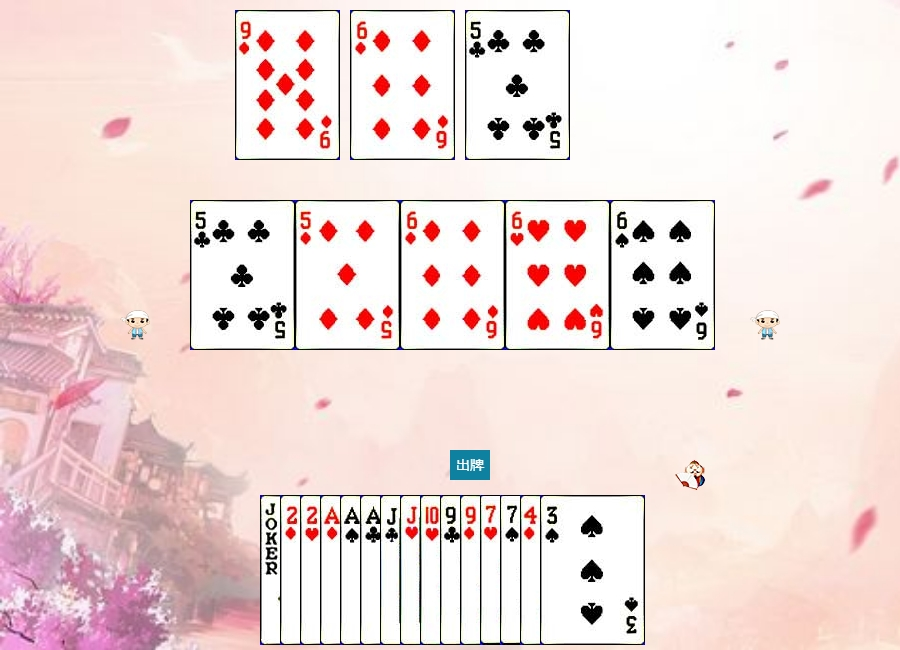10~3: (420, 495, 525, 645)
11~2: (380, 495, 485, 645)
11~3: (400, 495, 505, 645)
14~1: (320, 495, 425, 645)
14~2: (360, 495, 465, 645)
14~4: (340, 495, 445, 645)
15~1: (280, 495, 385, 645)
15~3: (300, 495, 405, 645)
17~3: (260, 495, 365, 645)
3~4: (540, 495, 645, 645)
4~1: (520, 495, 625, 645)
5~1: (295, 200, 400, 350)
5~2: (465, 10, 570, 160), (190, 200, 295, 350)
6~1: (350, 10, 455, 160), (400, 200, 505, 350)
6~3: (505, 200, 610, 350)
6~4: (610, 200, 715, 350)
7~3: (480, 495, 585, 645)
7~4: (500, 495, 605, 645)
9~1: (235, 10, 340, 160), (460, 495, 565, 645)
9~2: (440, 495, 545, 645)
